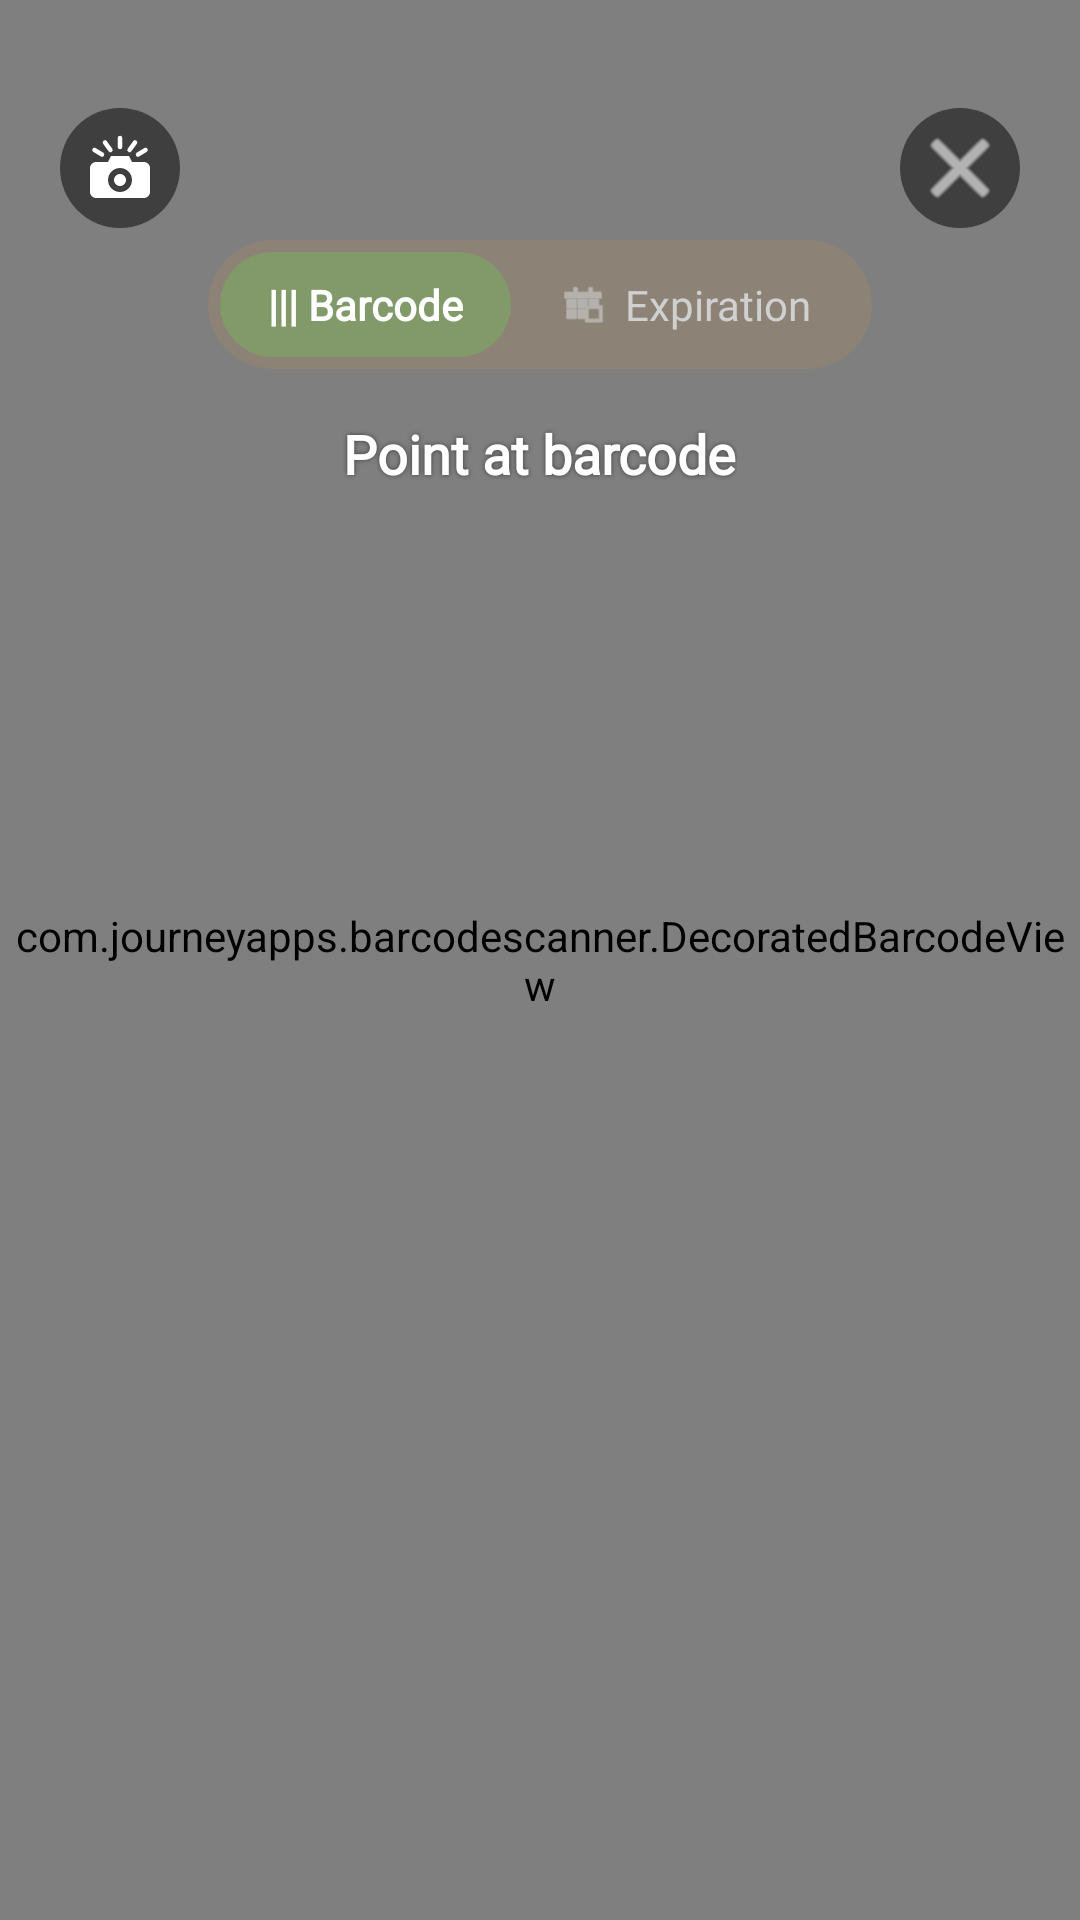

Icon click points for this 1080*1920 phone screenshot, format (x,y):
Close: (960,168)
Toggle Flashlight: (120,168)
